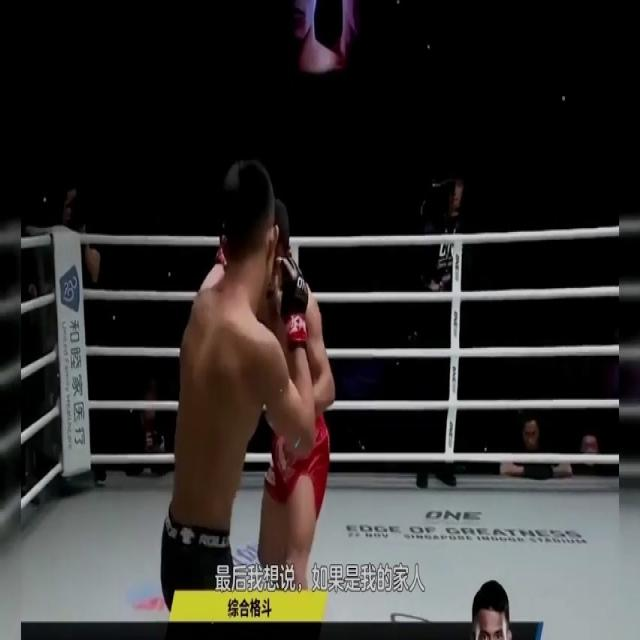fight: (141, 144, 359, 637)
